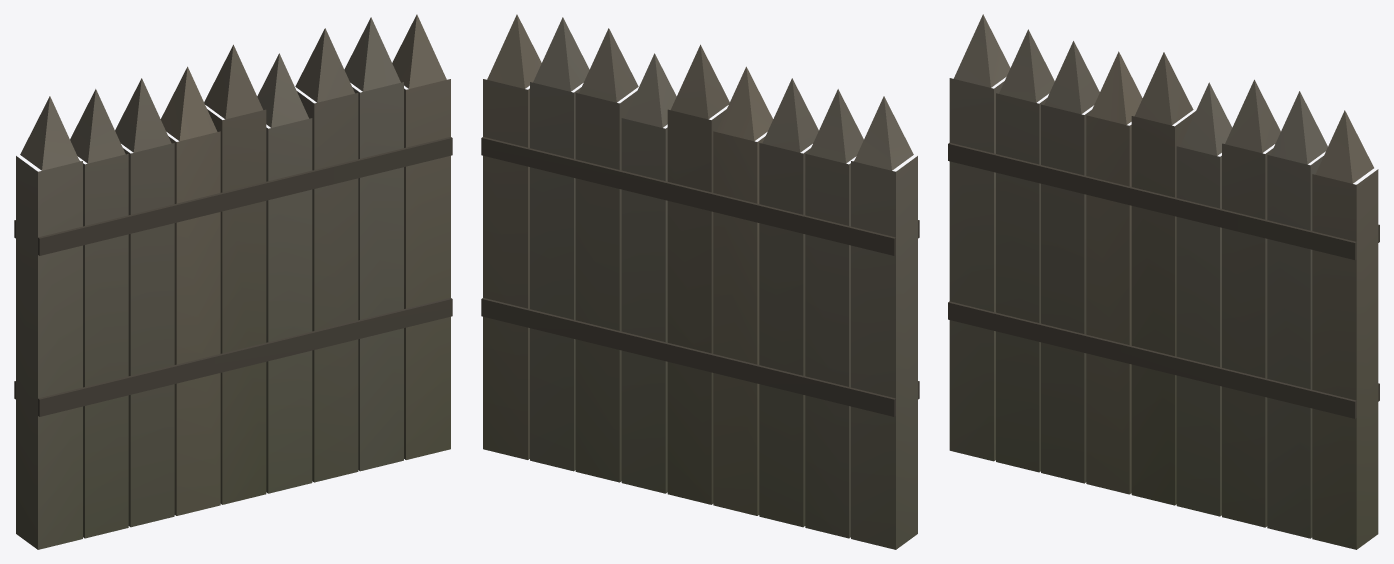
Rendered from fence.palisade.weathered.glb.
3 renders of one model, left to right at view 1: azimuth 30°, elevation 25°; view 2: azimuth 150°, elevation 25°; view 3: azimuth 330°, elevation 25°, orthographic.
Parts seen in each view (by area): view 1: fence_palisade_weathered; view 2: fence_palisade_weathered; view 3: fence_palisade_weathered.
Part boxes in pixels (box(x1,y1,x2,y2)): fence_palisade_weathered: box(14, 14, 452, 549); fence_palisade_weathered: box(481, 14, 919, 549); fence_palisade_weathered: box(948, 14, 1379, 549).
Size of what is drawn, in the model's own units: 1.74 by 1.8 by 0.184.
